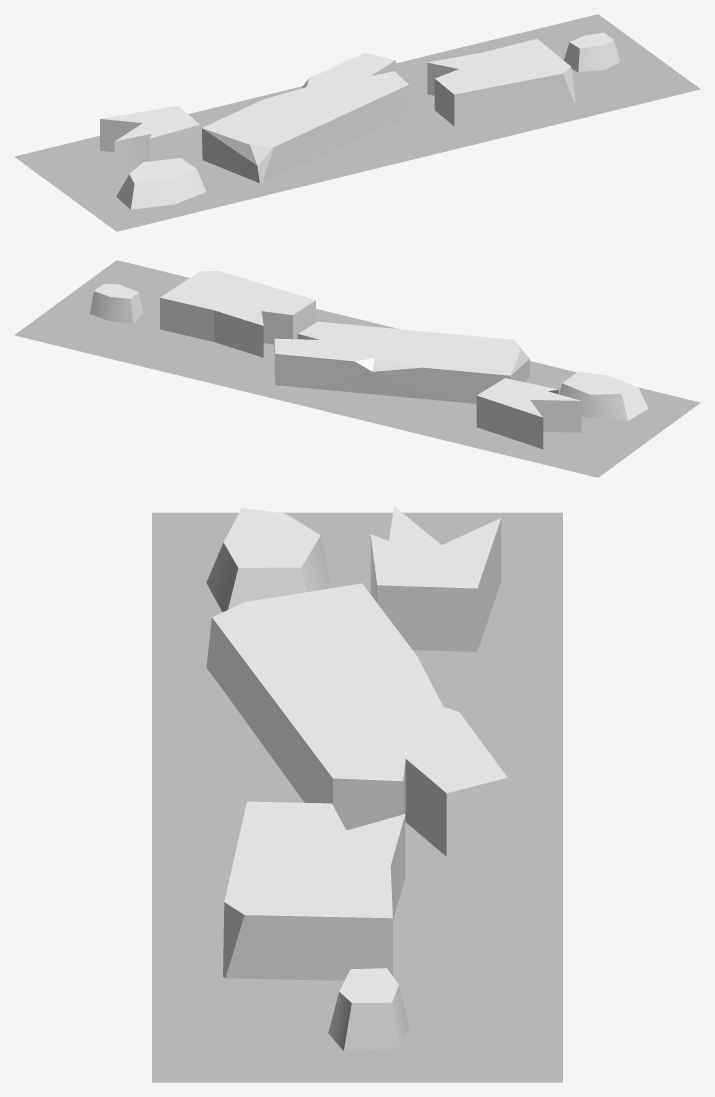
The model's file is Wall_Break4.fbx.
3 views of the same model, one above another, from view 1: azimuth 30°, elevation 25°; view 2: azimuth 150°, elevation 25°; view 3: azimuth 270°, elevation 25° (orthographic). The views are drawn at different scales.
Visible parts, largest first — view 1: Wall_Break4, Wall_Break_Shadow; view 2: Wall_Break4, Wall_Break_Shadow; view 3: Wall_Break_Shadow, Wall_Break4.
Part boxes in pixels (bbox=[...]): Wall_Break4: bbox=[100, 32, 619, 209]; Wall_Break_Shadow: bbox=[14, 14, 700, 231]; Wall_Break4: bbox=[90, 271, 648, 449]; Wall_Break_Shadow: bbox=[14, 260, 700, 477]; Wall_Break_Shadow: bbox=[152, 512, 562, 1082]; Wall_Break4: bbox=[206, 506, 507, 1050].
Size of the model in its own units: 1.49 by 0.0881 by 0.4532.
